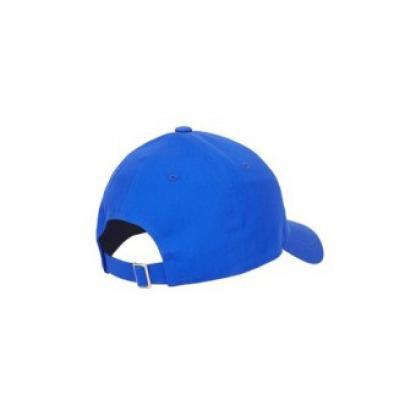cap: (86, 118, 328, 294)
